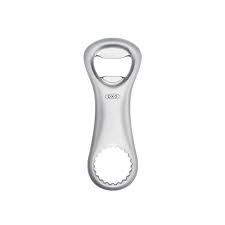bottleopener: (82, 38, 145, 190)
